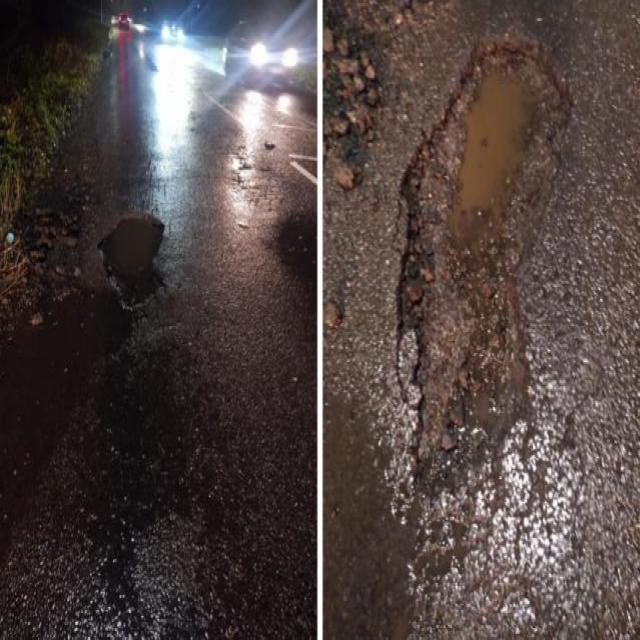Pothole: (398, 38, 570, 576), (98, 216, 165, 301)
